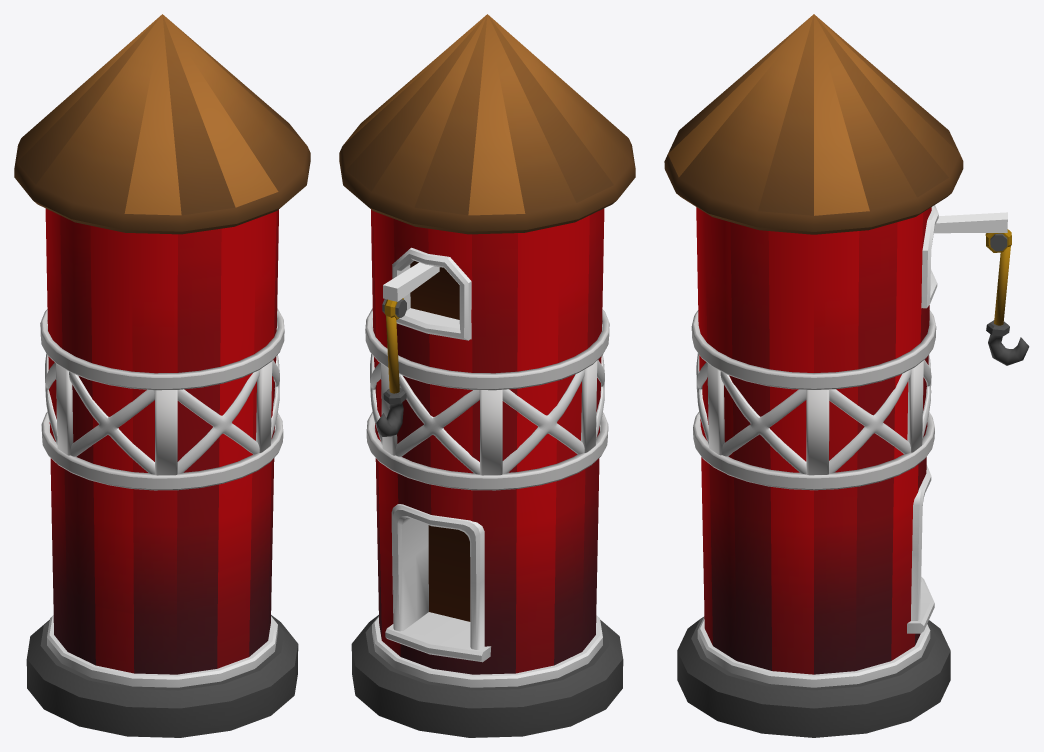
Rendered from Silo.fbx.
3 renders of one model, left to right at view 1: azimuth 30°, elevation 25°; view 2: azimuth 150°, elevation 25°; view 3: azimuth 270°, elevation 25°, orthographic.
Parts seen in each view (by area): view 1: Silo. Material; view 2: Silo. Material; view 3: Silo. Material.
Boxes of the visible parts, x1=… form: Silo. Material: x1=14, y1=14, x2=310, y2=737; Silo. Material: x1=339, y1=14, x2=635, y2=737; Silo. Material: x1=664, y1=14, x2=1029, y2=737.
Size of the model in its own units: 3.07 by 3.75 by 7.56.
